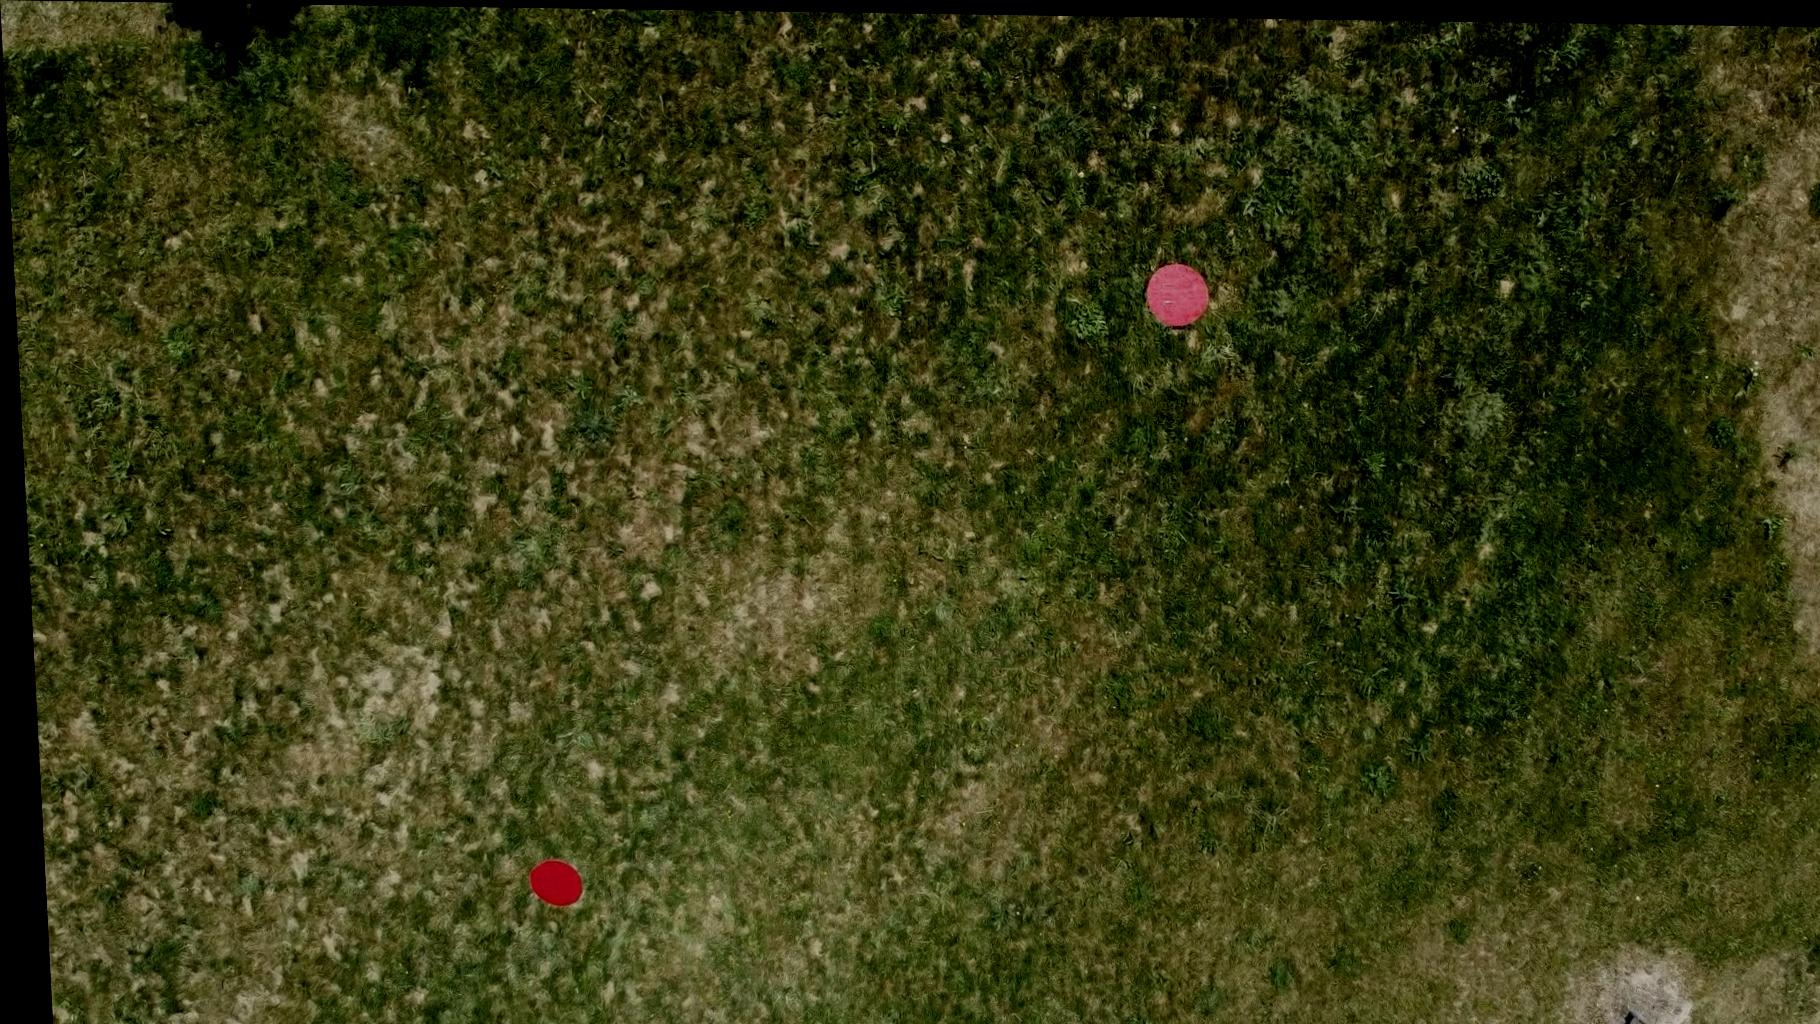Red: (1137, 258, 1210, 328), (516, 855, 575, 906)
